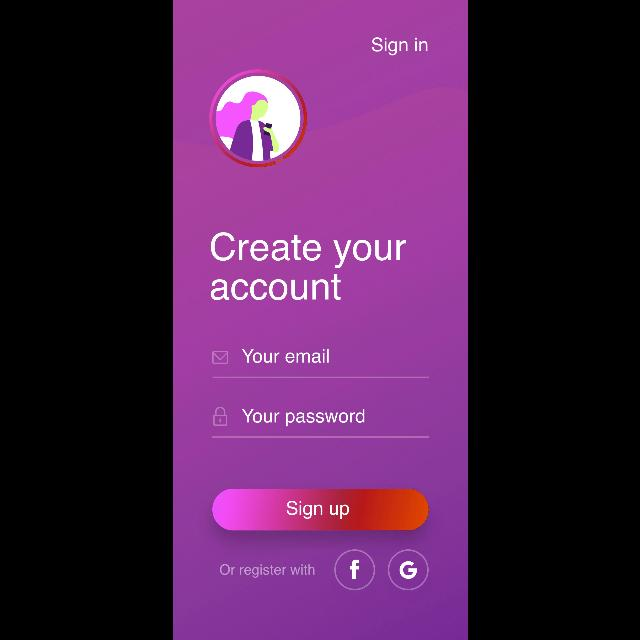icon: (334, 550, 374, 590), (388, 550, 428, 590), (213, 406, 227, 426), (212, 351, 228, 364)
image: (208, 69, 306, 167)
input: (212, 406, 428, 438), (212, 349, 428, 379)
text: (210, 232, 406, 302), (240, 409, 364, 427), (220, 564, 314, 578), (242, 349, 328, 363), (371, 38, 427, 56)
textbutton: (212, 489, 428, 531)
